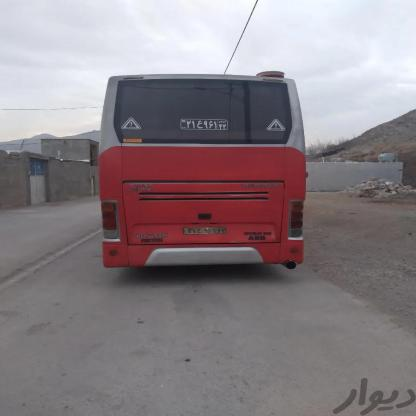Bus: (72, 64, 316, 282)
